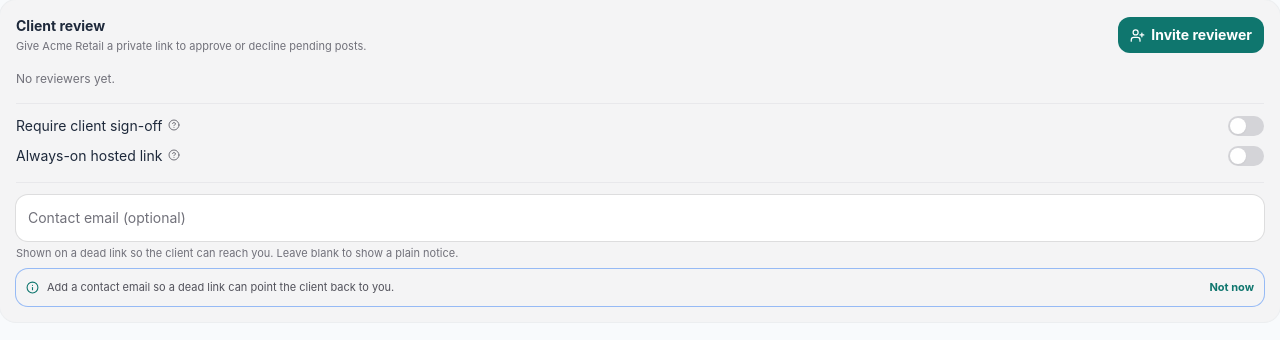
ReviewSection (V4) › shows a dismissible contact nudge when no contact is set
Expected: the text "Add a contact email" is shown, [47, 280, 394, 294]
What coordinates should you click on to do the following:
click the button "Not now"
I would click on:
 (1232, 287)
Its box is [1209, 279, 1254, 296].
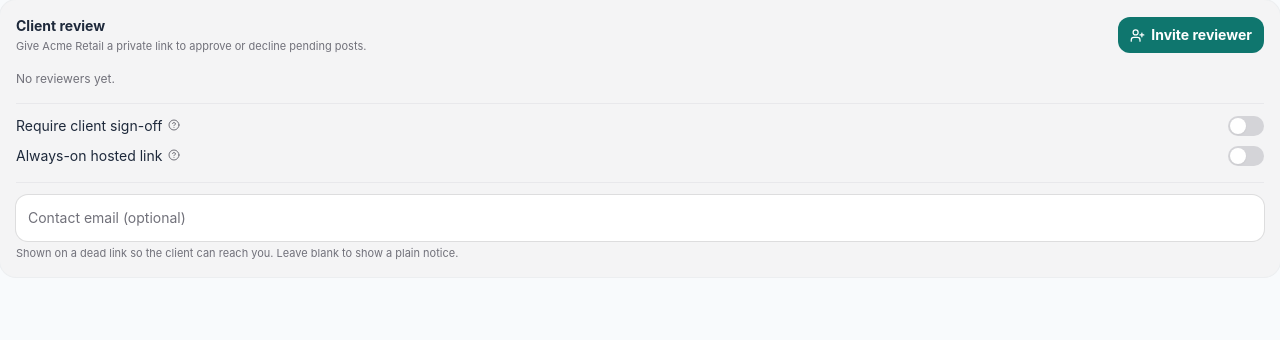
Expected: the text "Add a contact email" is gone
